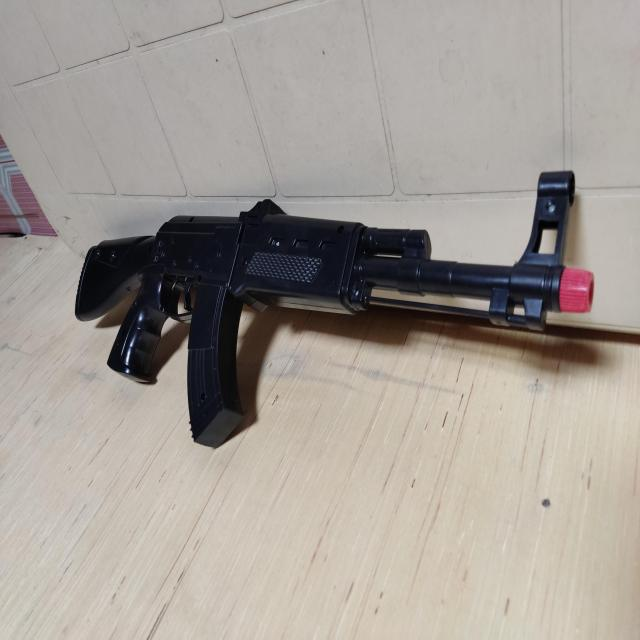rifle: (75, 169, 592, 447)
